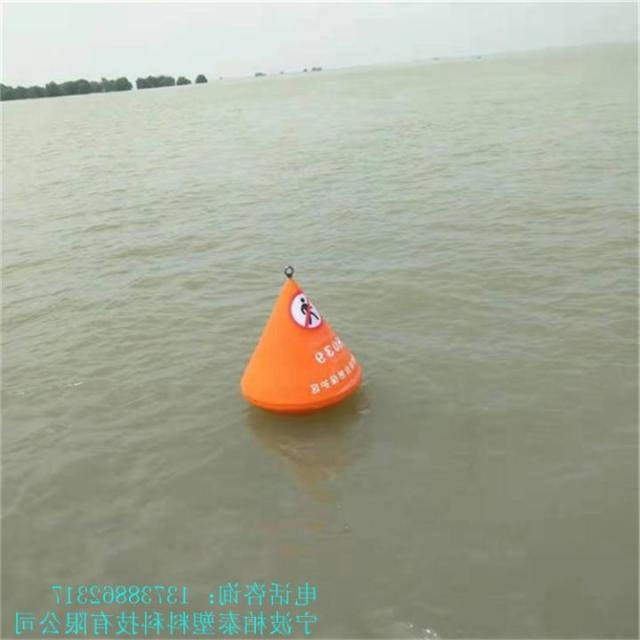buoy: (233, 264, 363, 406)
